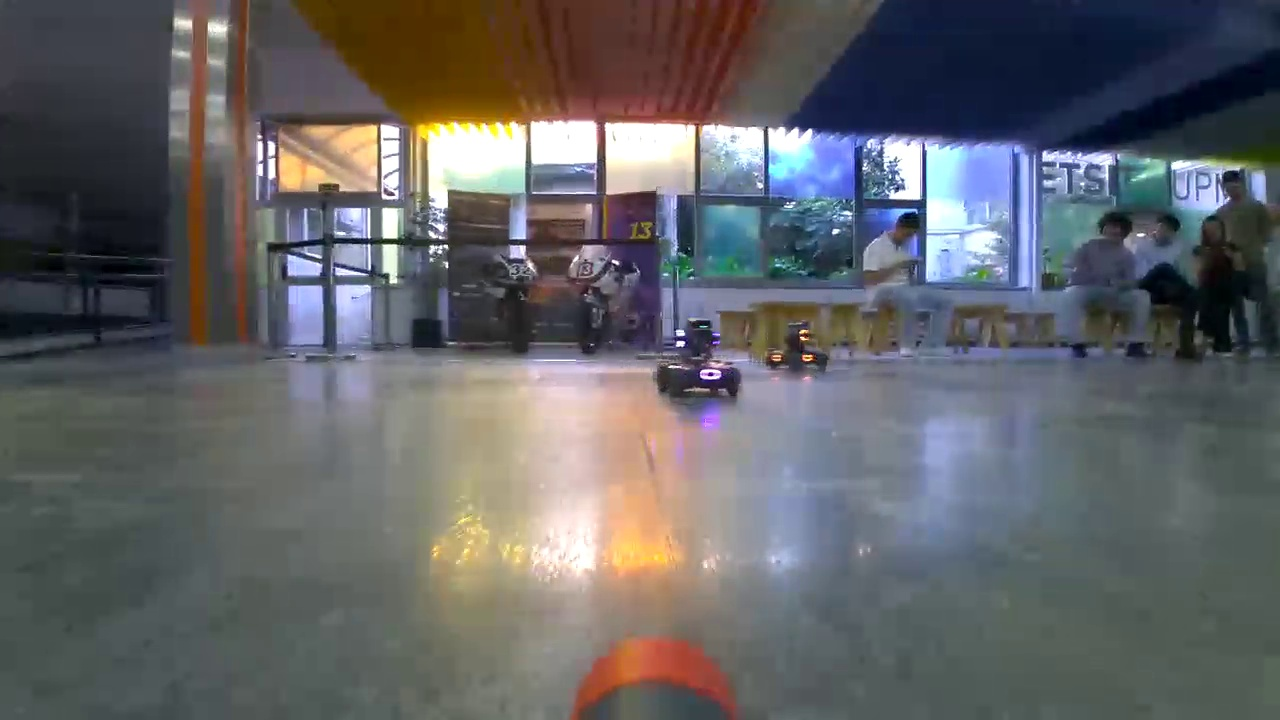robot: (655, 318, 742, 398), (765, 320, 828, 372)
